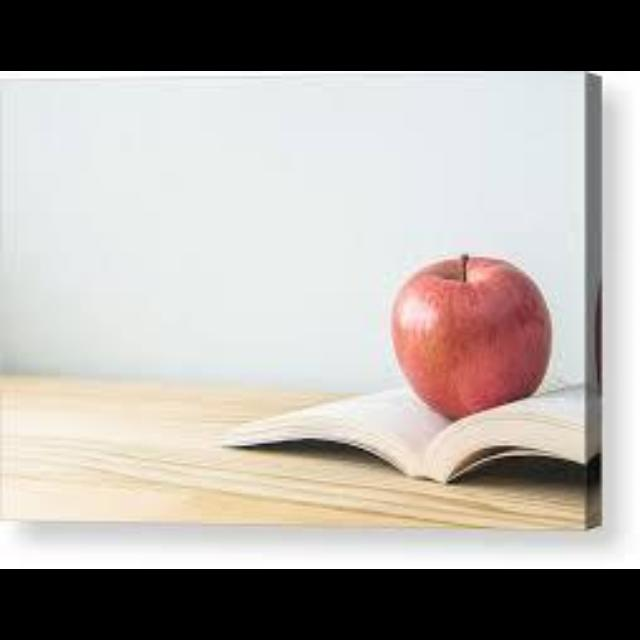apple: (393, 255, 549, 416)
